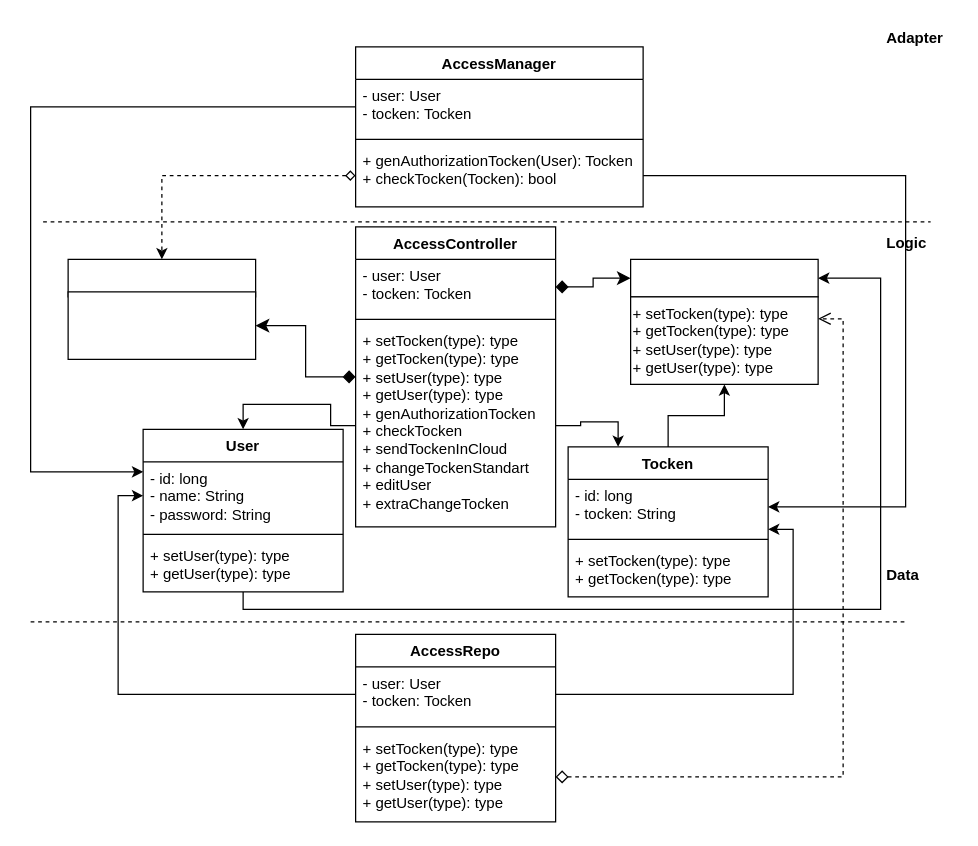
This 978x846 diagram has some shape labels left out. Here are the shapes that lost their labels. From the top down, the centre of each, then its label:
pixel 161 277: «interface» iAccess
pixel 723 277: «interface» iRepo
pixel 161 325: + genAuthorizationTocken + checkTocken
